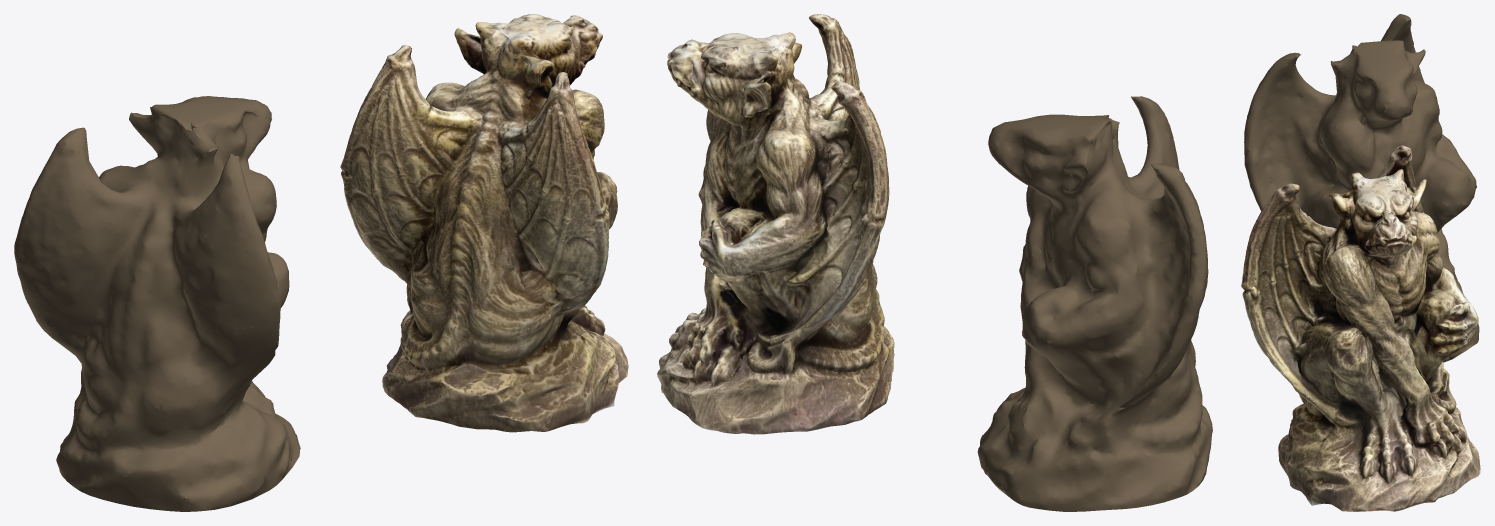
File: sf-gargoyle-6b76a6.glb
3 views of the same model, side by side, from view 1: azimuth 30°, elevation 25°; view 2: azimuth 150°, elevation 25°; view 3: azimuth 270°, elevation 25° (orthographic). The views are drawn at different scales.
Parts seen in each view (by area): view 1: Object_2; view 2: Object_2; view 3: Object_2.
Part boxes in pixels (bbox=[...]): Object_2: bbox=[14, 14, 628, 511]; Object_2: bbox=[657, 14, 1212, 511]; Object_2: bbox=[1241, 14, 1480, 511].
Bounding box in the file's own units: 2.99 × 1.81 × 1.3.
1 material, 1 textured.
